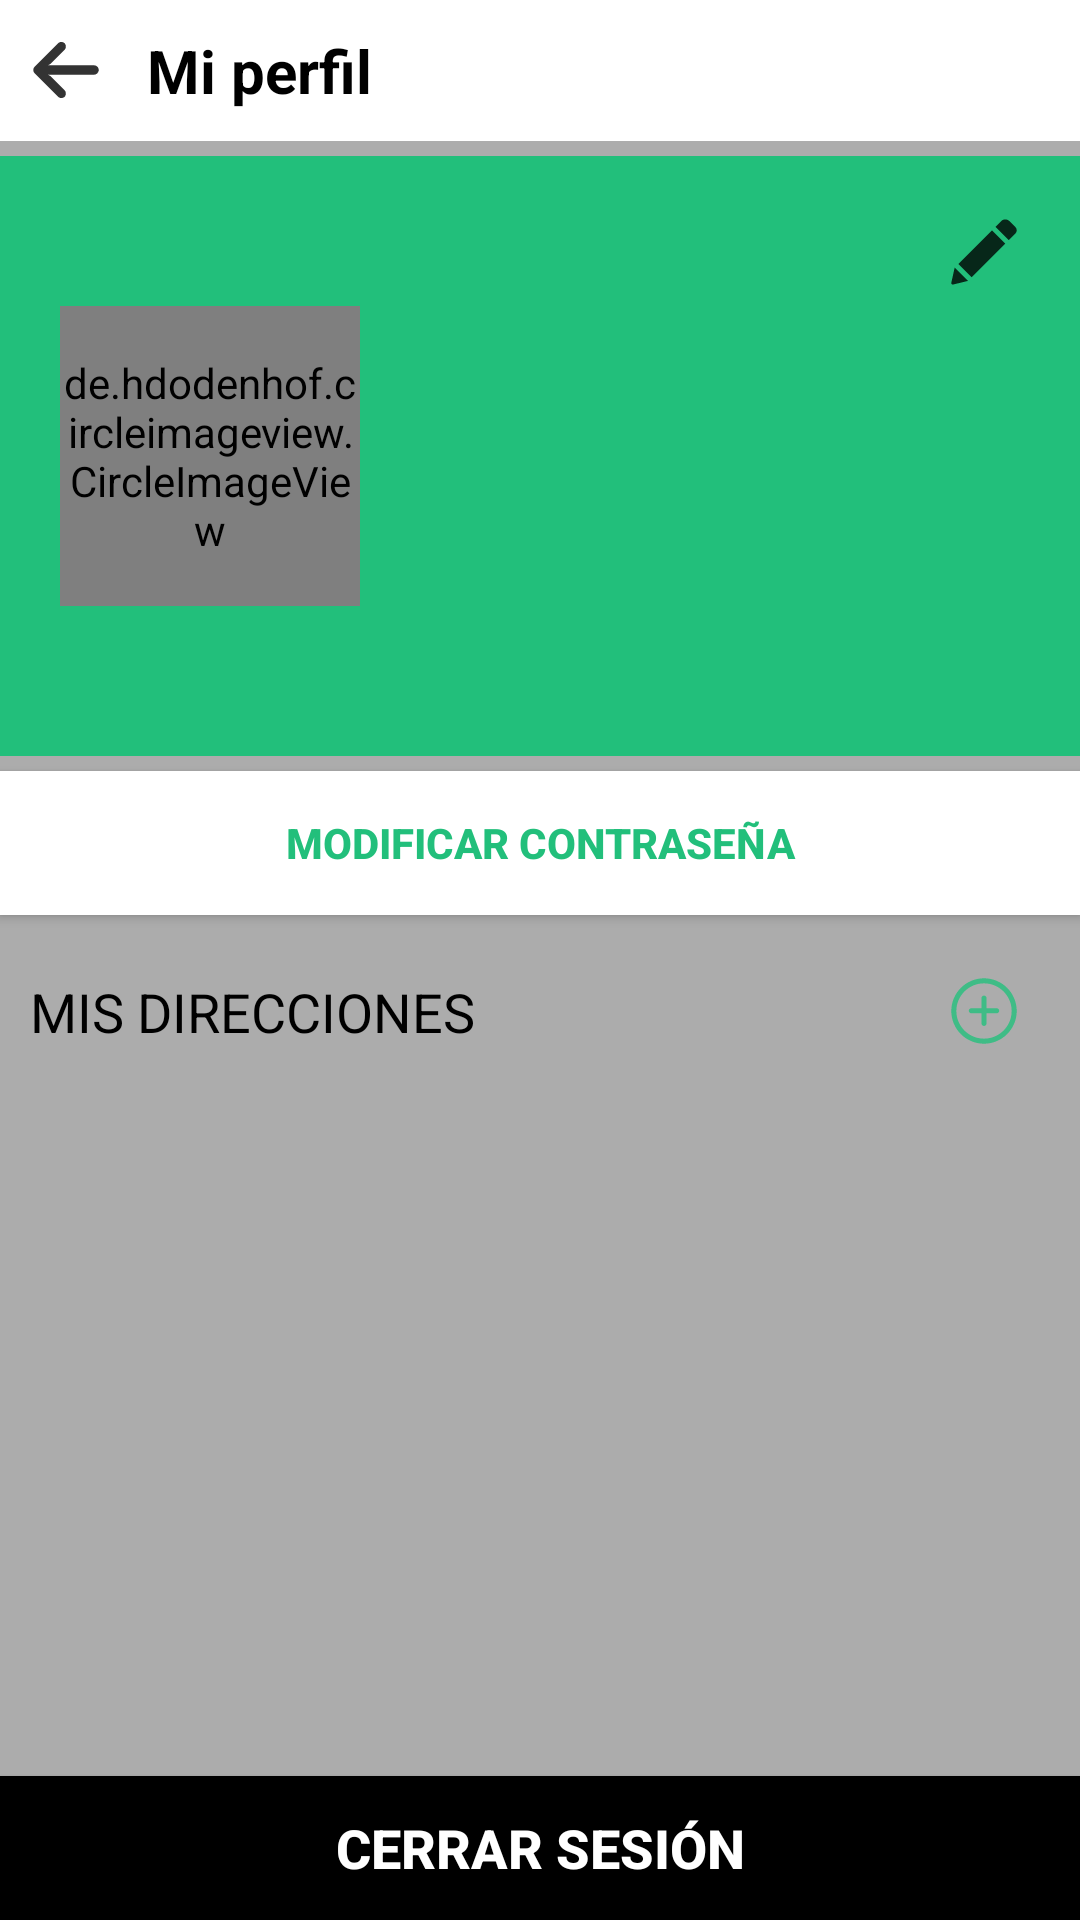

Named icons in this screenshot (1080×1920) and their bounding boxes, box=[x1, y1, x2, y2]:
add: box=[951, 978, 1017, 1044]
back to: box=[33, 42, 99, 98]
edit: box=[951, 219, 1017, 285]
